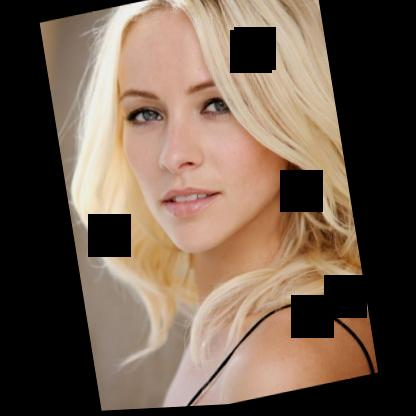Female: (100, 0, 300, 264)
